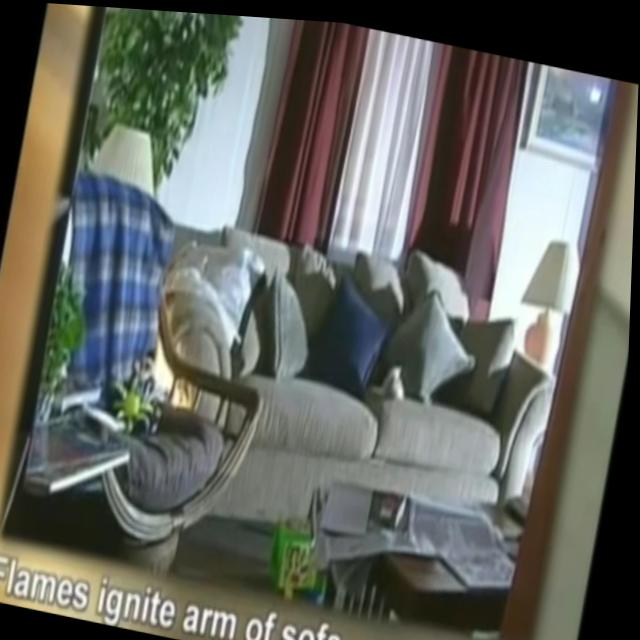fire: (143, 300, 211, 411)
